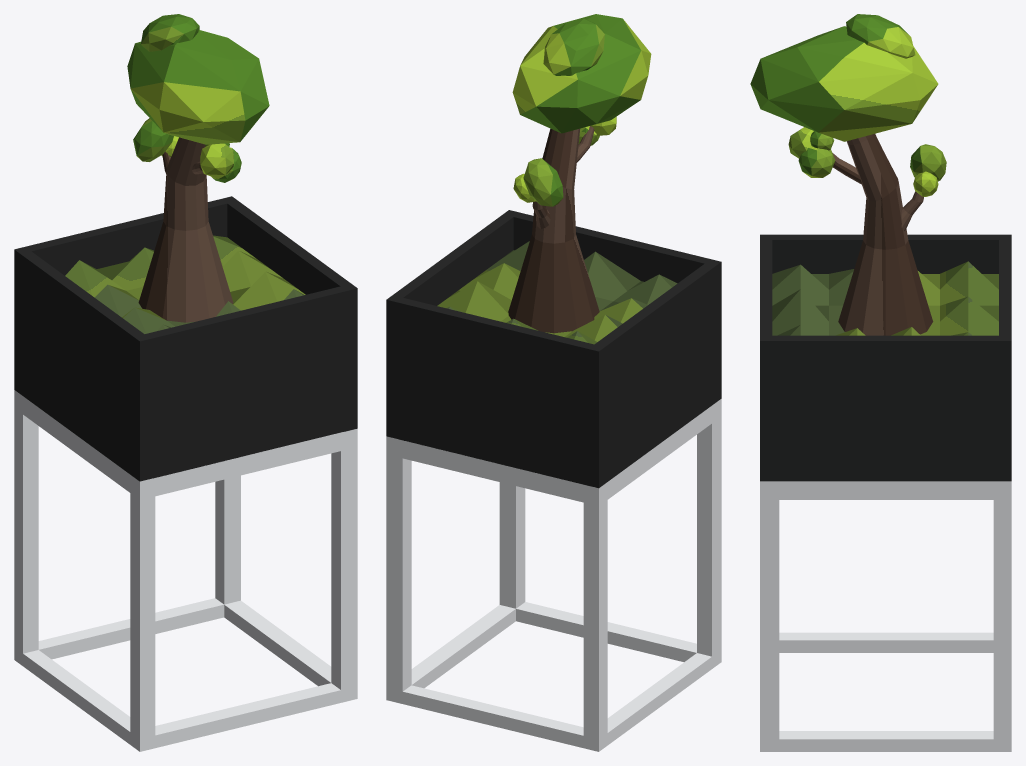
Rendered from Accesories_Plants_C.glb.
3 views of the same model, side by side, from view 1: azimuth 30°, elevation 25°; view 2: azimuth 150°, elevation 25°; view 3: azimuth 270°, elevation 25° (orthographic). The views are drawn at different scales.
Visible parts, largest first — view 1: Accesories_Plants_C; view 2: Accesories_Plants_C; view 3: Accesories_Plants_C.
Part boxes in pixels (left/top/right/bottom): Accesories_Plants_C: left=14, top=14, right=357, bottom=751; Accesories_Plants_C: left=386, top=14, right=721, bottom=751; Accesories_Plants_C: left=750, top=14, right=1011, bottom=751.
Size of the model in its own units: 0.4349 by 1.28 by 0.4513.
Materials: 1 (1 with a texture image).
